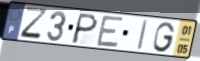3: (45, 10, 67, 43)
E: (95, 14, 126, 50)
G: (152, 21, 177, 54)
I: (136, 18, 150, 52)
P: (69, 12, 100, 46)
Z: (18, 6, 49, 42)
